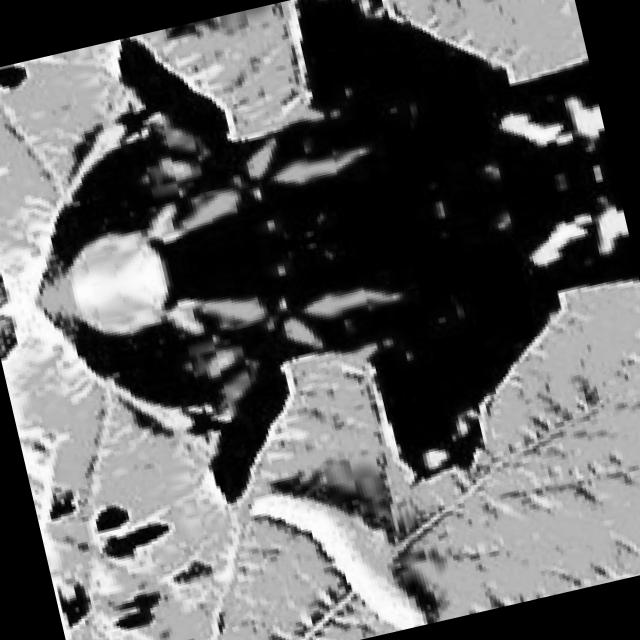Armyworm: (213, 452, 452, 640)
